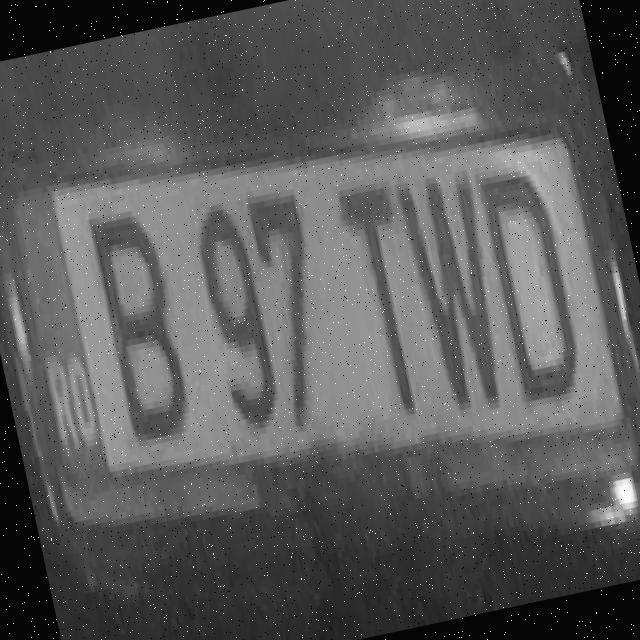EU: (3, 123, 630, 483)
Romanie: (3, 183, 107, 486)
